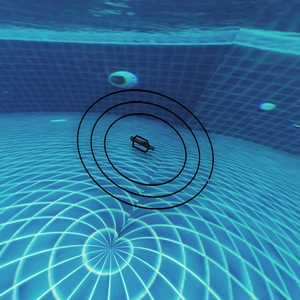circle: (81, 75, 222, 241)
submarine: (131, 134, 151, 154)
